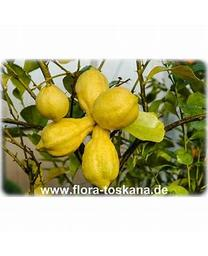lemon: (83, 123, 121, 188), (39, 115, 89, 157), (93, 87, 139, 132), (75, 67, 109, 117), (38, 84, 70, 121)
